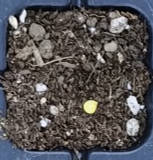chilli seed: (81, 98, 98, 114)
